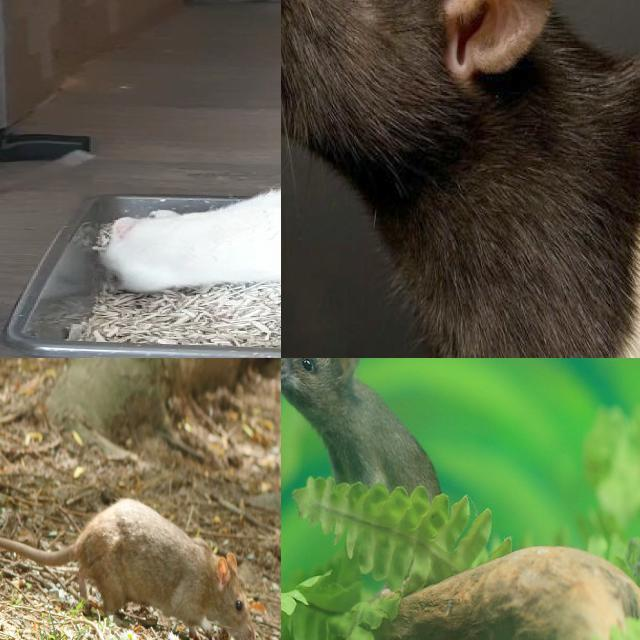rat: (281, 0, 640, 358), (101, 179, 281, 326), (78, 499, 259, 640), (281, 358, 431, 521)
